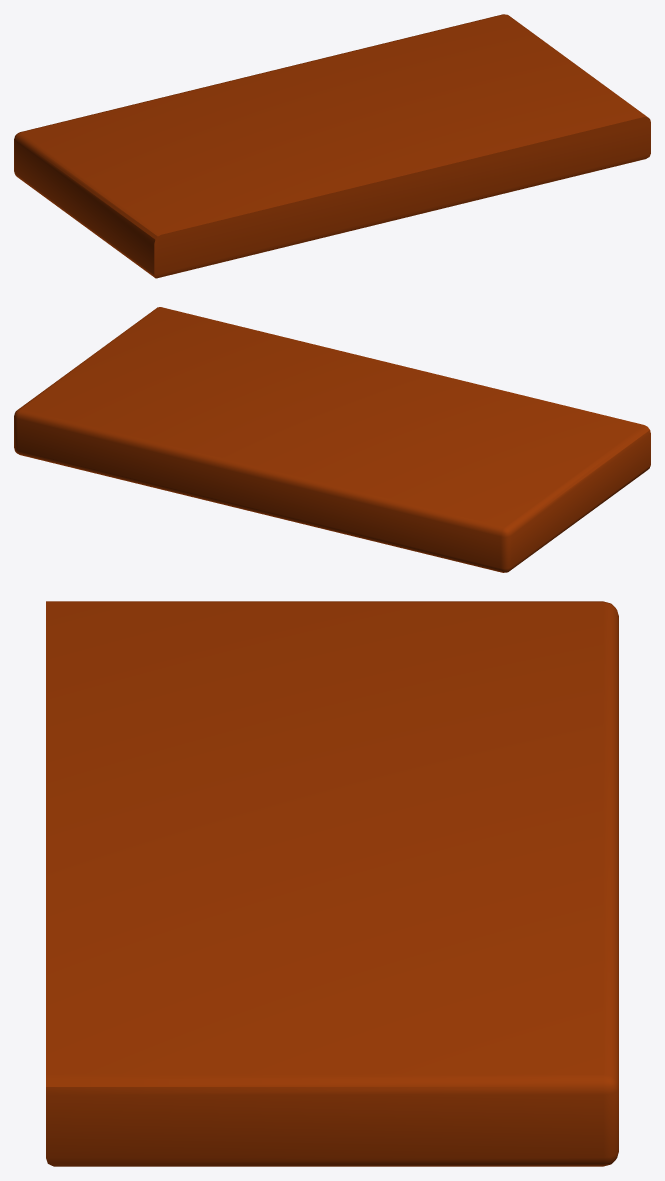
The model's file is Shelf.fbx.
The picture shows the model from 3 angles, top to bottom: view 1: azimuth 30°, elevation 25°; view 2: azimuth 150°, elevation 25°; view 3: azimuth 270°, elevation 25°; orthographic projection. The views are drawn at different scales.
Parts seen in each view (by area): view 1: Shelf; view 2: Shelf; view 3: Shelf.
Part boxes in pixels (bbox=[...]): Shelf: bbox=[14, 14, 650, 278]; Shelf: bbox=[14, 307, 650, 572]; Shelf: bbox=[46, 601, 618, 1166].
Size of the model in its own units: 124 by 10.79 by 61.78.
1 material, 1 textured.
